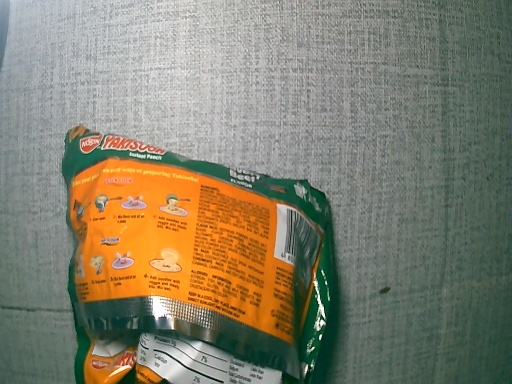plastic: (65, 128, 332, 384)
